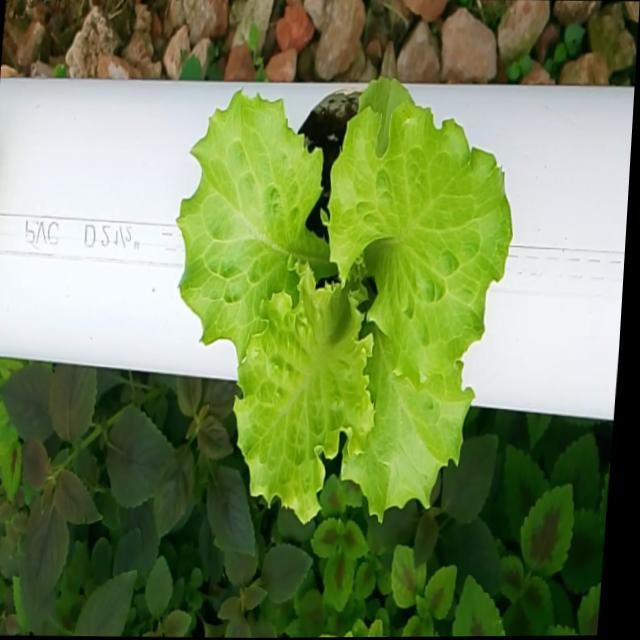Baby: (168, 84, 506, 537)
